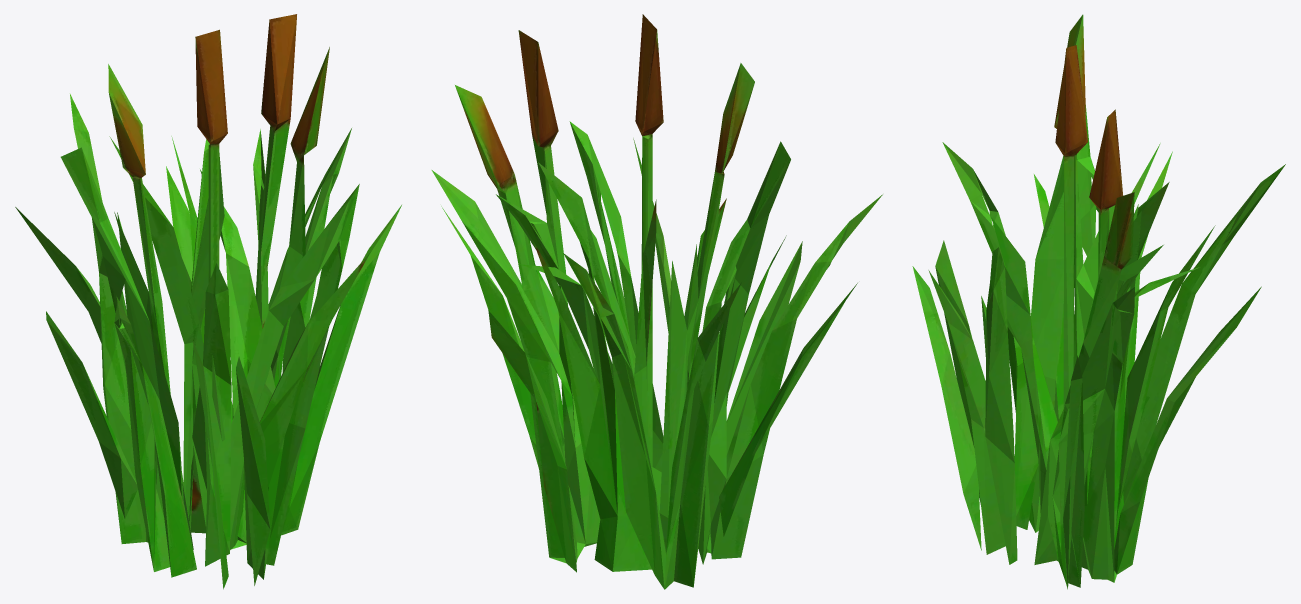
File: cattail_reeds.glb
The picture shows the model from 3 angles, left to right: view 1: azimuth 30°, elevation 25°; view 2: azimuth 150°, elevation 25°; view 3: azimuth 270°, elevation 25°; orthographic projection. The views are drawn at different scales.
Size of the model in its own units: 1.38 by 1.82 by 1.21.
Materials: 1 (1 with a texture image).
